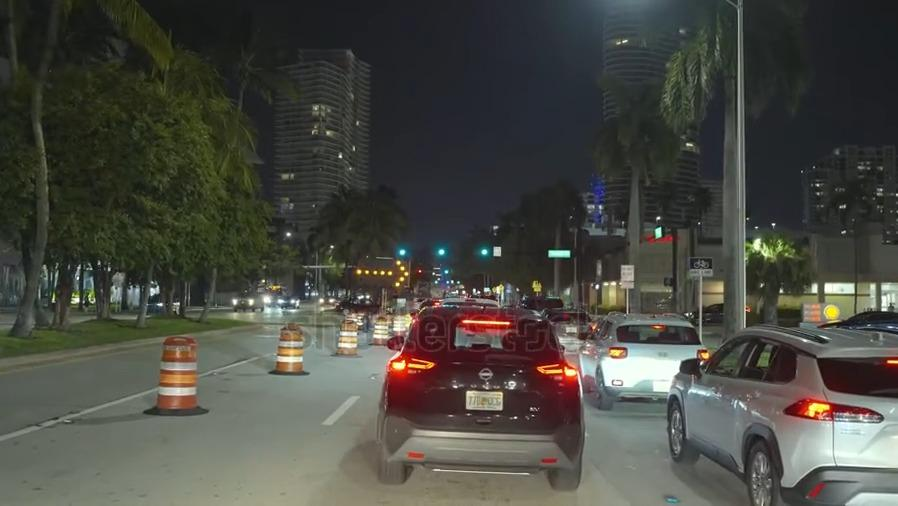arrow traffic sign: (350, 255, 412, 294)
car: (672, 327, 898, 506), (369, 304, 582, 490), (577, 311, 706, 405), (539, 307, 593, 353), (825, 304, 898, 335), (683, 300, 749, 325), (334, 295, 391, 315), (227, 288, 262, 314), (145, 293, 184, 315), (276, 292, 299, 311)
cone: (157, 334, 198, 413), (272, 321, 305, 375), (332, 316, 358, 354), (367, 314, 391, 347), (389, 310, 407, 341)
traffic light: (476, 241, 501, 265), (391, 243, 414, 264), (429, 243, 452, 261)
wheel: (740, 431, 787, 506), (662, 395, 699, 465)
